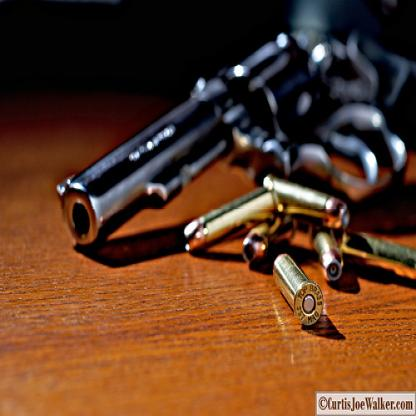handgun: (53, 27, 402, 252)
